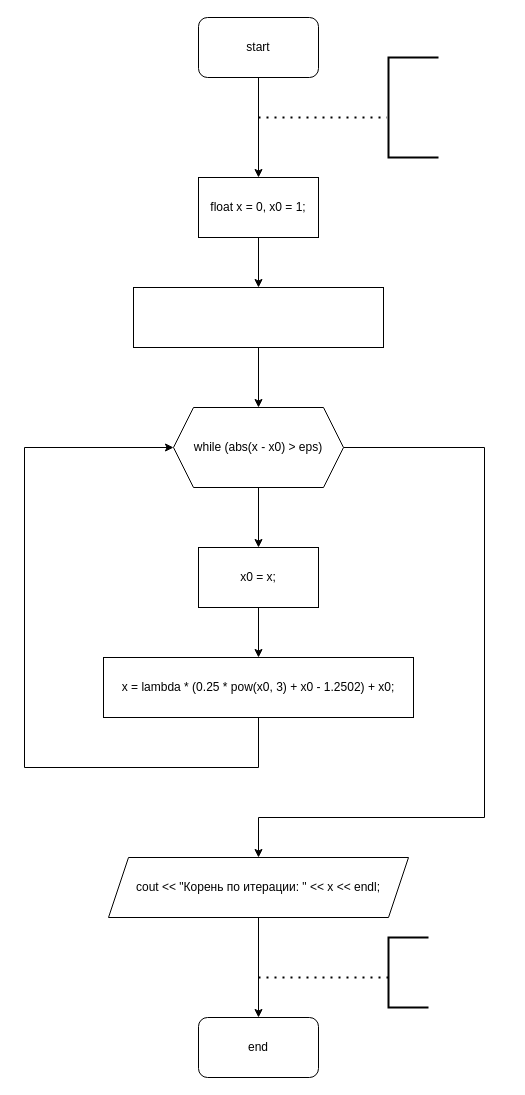
Some shapes in this 525 by 1095 pixel diagram are drawn without their labels. The centre of each missing label's shape, as x and y in pixels:
"#include <iostream> #include <cmath> using namespace std; int main ()" belongs at pixel 413 107.
"double eps = 0.000001, lambda = -0.2;" belongs at pixel 258 317.
"return 0;" belongs at pixel 408 972.
